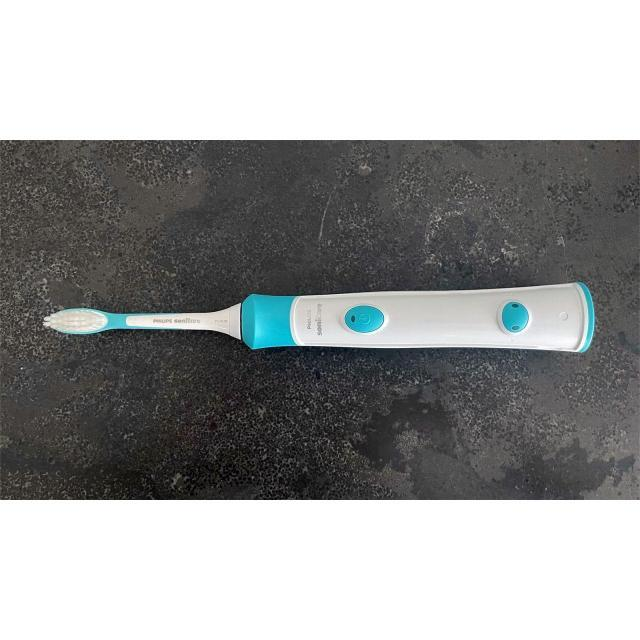toothbrush: (22, 288, 264, 354)
